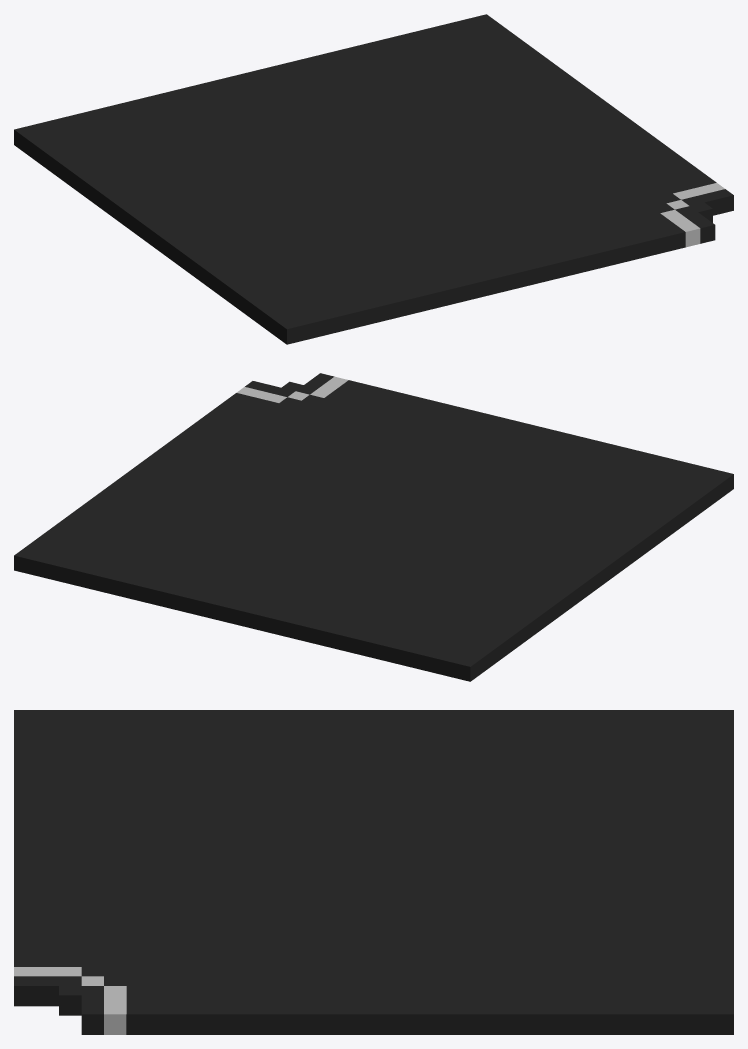
Rendered from asphalt-rounded-edge-inner.gltf.
The picture shows the model from 3 angles, top to bottom: view 1: azimuth 30°, elevation 25°; view 2: azimuth 150°, elevation 25°; view 3: azimuth 270°, elevation 25°; orthographic projection. The views are drawn at different scales.
Parts seen in each view (by area): view 1: asphalt-rounded-edge-inner; view 2: asphalt-rounded-edge-inner; view 3: asphalt-rounded-edge-inner.
Part boxes in pixels (bbox=[...]): asphalt-rounded-edge-inner: bbox=[14, 14, 733, 344]; asphalt-rounded-edge-inner: bbox=[14, 373, 733, 681]; asphalt-rounded-edge-inner: bbox=[14, 710, 733, 1034].
Size of the model in its own units: 3.2 by 0.1 by 3.2.
1 material, 1 textured.
